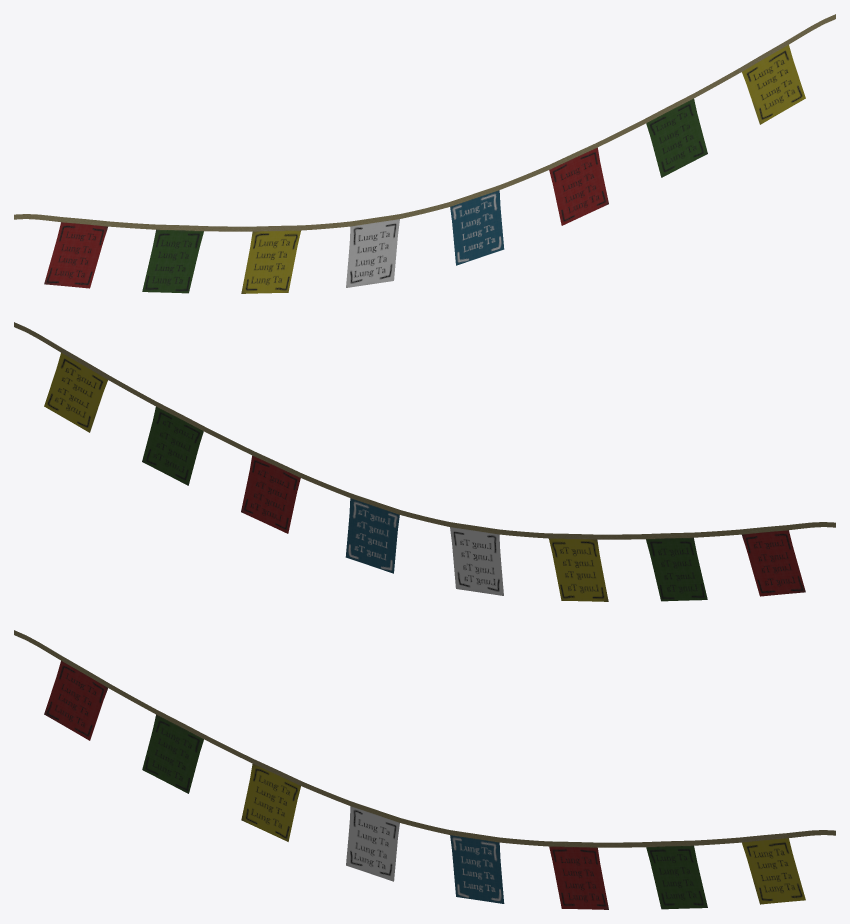
The model's file is Tibetan Banners.fbx.
3 renders of one model, top to bottom at view 1: azimuth 30°, elevation 25°; view 2: azimuth 150°, elevation 25°; view 3: azimuth 330°, elevation 25°, orthographic.
Parts seen in each view (by area): view 1: Plane; view 2: Plane; view 3: Plane.
Boxes of the visible parts, bbox=[...] form: Plane: bbox=[14, 14, 835, 293]; Plane: bbox=[14, 322, 835, 601]; Plane: bbox=[14, 630, 835, 909].
Size of the model in its own units: 10625 by 1965 by 2.68e-05.
1 material, 1 textured.
